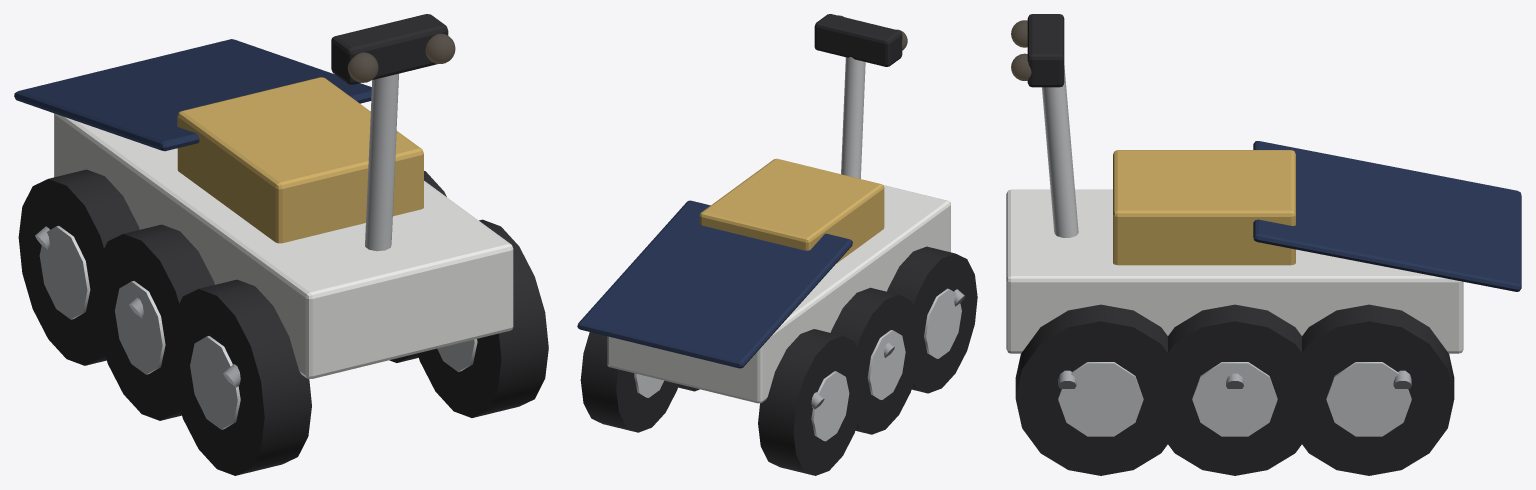
The model's file is probe-rover.glb.
3 views of the same model, side by side, from view 1: azimuth 30°, elevation 25°; view 2: azimuth 150°, elevation 25°; view 3: azimuth 270°, elevation 25° (orthographic). The views are drawn at different scales.
Visible parts, largest first — view 1: chassis, warm_box, wheel_0_-1_tyre, deck, wheel_2_-1_tyre, wheel_1_-1_tyre, wheel_0_1_tyre, mast, cam_head, wheel_2_-1_hub, wheel_1_-1_hub, wheel_0_-1_hub (+3 smaller); view 2: deck, chassis, warm_box, wheel_2_-1_tyre, wheel_1_-1_tyre, wheel_0_-1_tyre, wheel_2_1_tyre, cam_head, mast, wheel_0_-1_hub, wheel_1_-1_hub, wheel_2_-1_hub (+1 smaller); view 3: chassis, deck, warm_box, wheel_0_1_tyre, wheel_2_1_tyre, wheel_1_1_tyre, wheel_0_1_hub, wheel_2_1_hub, wheel_1_1_hub, mast, cam_head.
Part boxes in pixels (x1,y1,x2,y2): chassis: (54, 113, 513, 378); warm_box: (177, 77, 423, 243); wheel_0_-1_tyre: (169, 279, 311, 475); deck: (14, 39, 371, 151); wheel_2_-1_tyre: (18, 169, 139, 365); wheel_1_-1_tyre: (94, 224, 214, 420); wheel_0_1_tyre: (417, 219, 548, 417); mast: (365, 73, 398, 251); cam_head: (331, 14, 448, 84); wheel_2_-1_hub: (39, 226, 90, 319); wheel_1_-1_hub: (114, 281, 165, 374); wheel_0_-1_hub: (190, 336, 240, 429); deck: (577, 200, 852, 368); chassis: (607, 185, 950, 403); warm_box: (699, 158, 884, 263); wheel_2_-1_tyre: (758, 329, 864, 475); wheel_1_-1_tyre: (830, 287, 921, 434); wheel_0_-1_tyre: (887, 246, 977, 393); wheel_2_1_tyre: (580, 332, 678, 432); cam_head: (814, 14, 902, 66); mast: (841, 57, 865, 178); wheel_0_-1_hub: (924, 288, 961, 358); wheel_1_-1_hub: (867, 330, 905, 399); wheel_2_-1_hub: (811, 371, 849, 441); chassis: (1006, 189, 1463, 353); deck: (1253, 141, 1521, 291); warm_box: (1113, 150, 1295, 265); wheel_0_1_tyre: (1015, 304, 1185, 475); wheel_2_1_tyre: (1284, 304, 1454, 475); wheel_1_1_tyre: (1150, 304, 1319, 475); wheel_0_1_hub: (1058, 362, 1143, 436); wheel_2_1_hub: (1326, 362, 1411, 436); wheel_1_1_hub: (1192, 362, 1277, 436); mast: (1042, 66, 1078, 237); cam_head: (1027, 14, 1064, 87).
Bounding box in the file's own units: 1.29 × 1.72 × 2.11.
